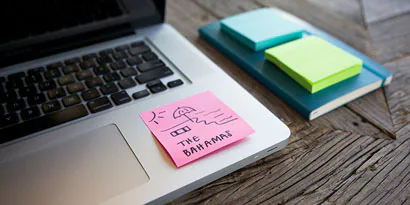Note: (142, 92, 253, 163)
